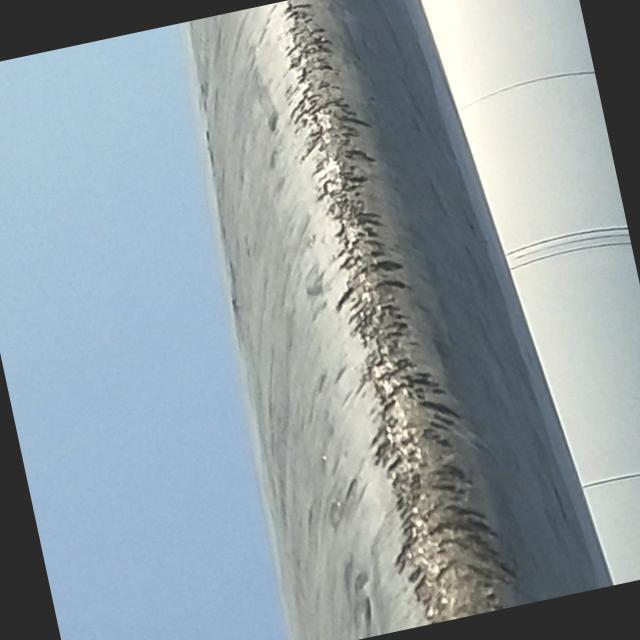corrosion: (219, 0, 519, 635)
